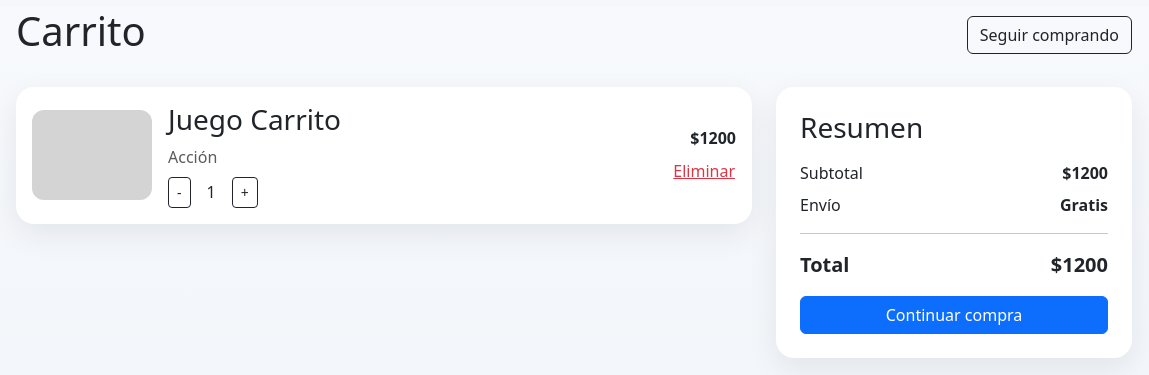
Test: Flujos de cuenta, perfil y carrito › permite cambiar cantidades, recalcula el total y elimina artículos
Step 1. Click the button "+" → [245, 192], box [232,177,258,208]
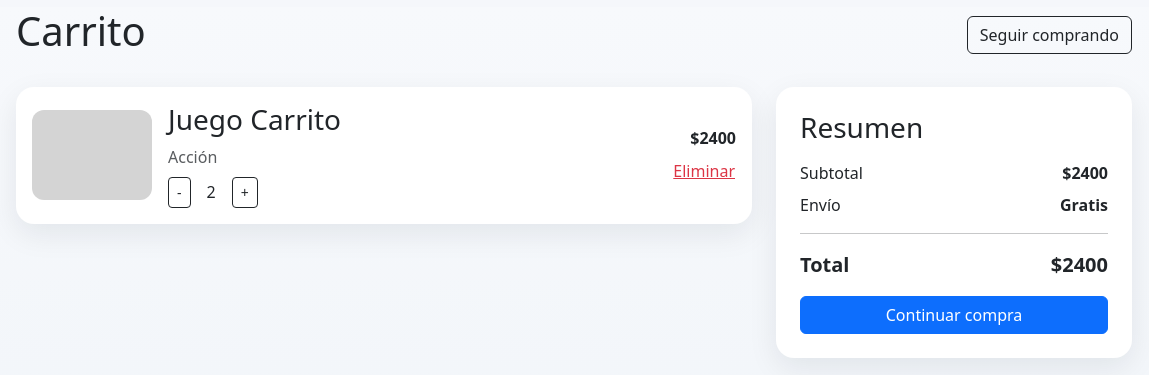
Expected: the text "$2400" is shown 3 times, [690,127,736,149]; [1062,161,1108,185]; [1051,250,1108,280]
Step 2. Click the button "Eliminar" → [704, 171], box [672,158,736,184]
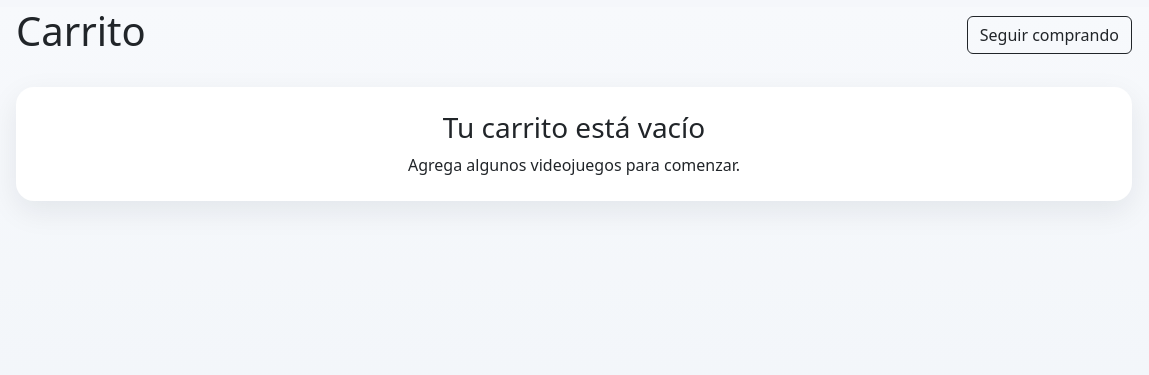
Expected: the heading "Tu carrito está vacío" is shown, [443,108,705,146]
